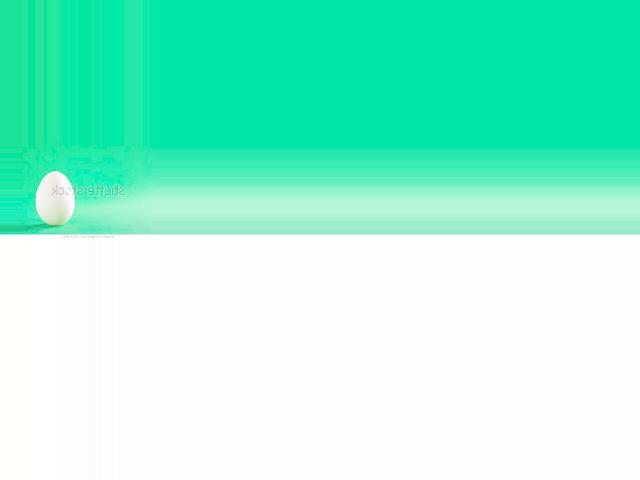egg: (35, 171, 74, 227)
